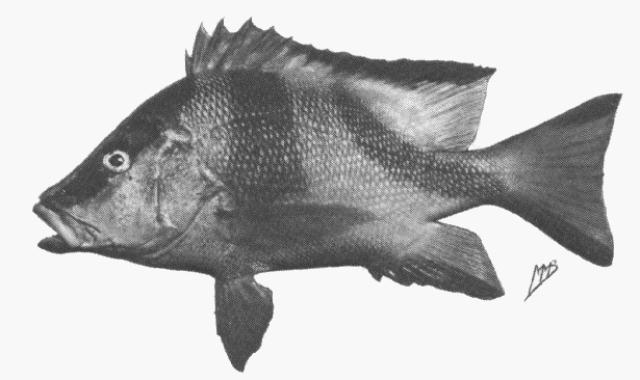Mulut: (18, 182, 98, 274)
Sirip Anal: (368, 216, 506, 312)
Sirip Dada: (206, 194, 390, 254)
Sirip Ekor: (489, 79, 628, 279)
Sirip Perut: (206, 270, 280, 376)
Sirip Punggung: (172, 8, 508, 160)
